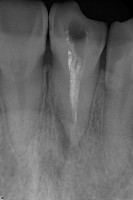Furcation Involvement: (54, 112, 82, 161)
